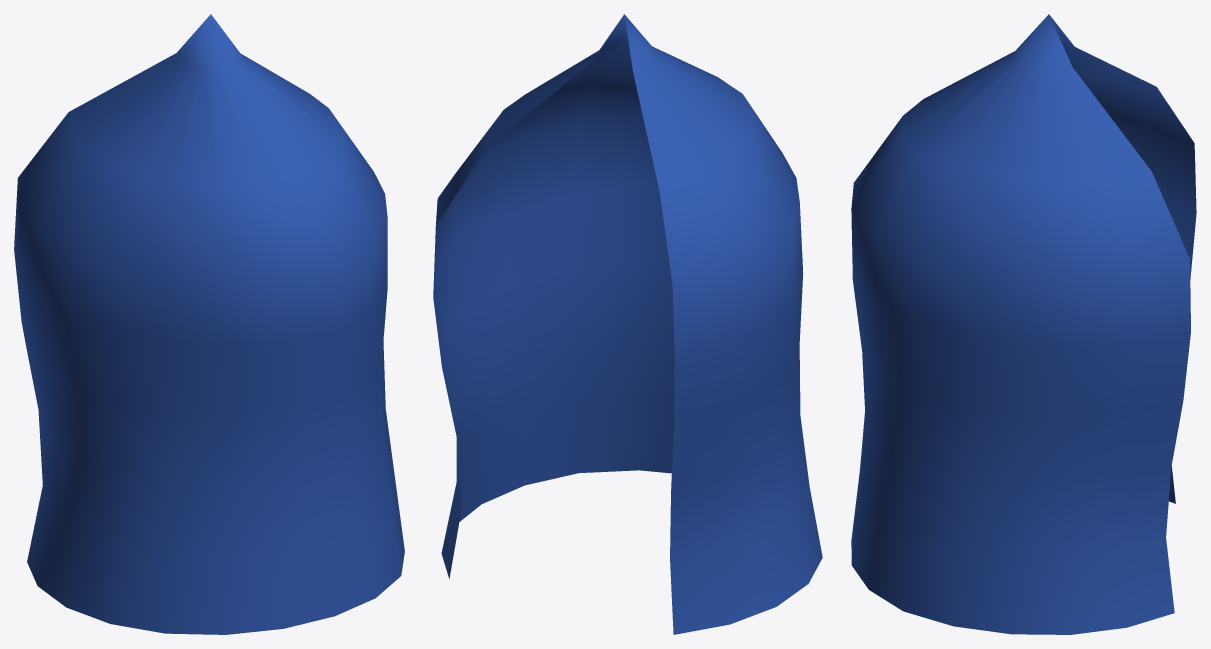
File: mushroom_cap.glb
3 renders of one model, left to right at view 1: azimuth 30°, elevation 25°; view 2: azimuth 150°, elevation 25°; view 3: azimuth 270°, elevation 25°, orthographic.
Visible parts, largest first — view 1: mushroom_cap_head; view 2: mushroom_cap_head; view 3: mushroom_cap_head.
Boxes of the visible parts, x1,y1,x2,y2 form: mushroom_cap_head: [14, 14, 404, 634]; mushroom_cap_head: [433, 14, 822, 634]; mushroom_cap_head: [851, 14, 1196, 634].
Size of the model in its own units: 0.2304 by 0.3685 by 0.2116.
